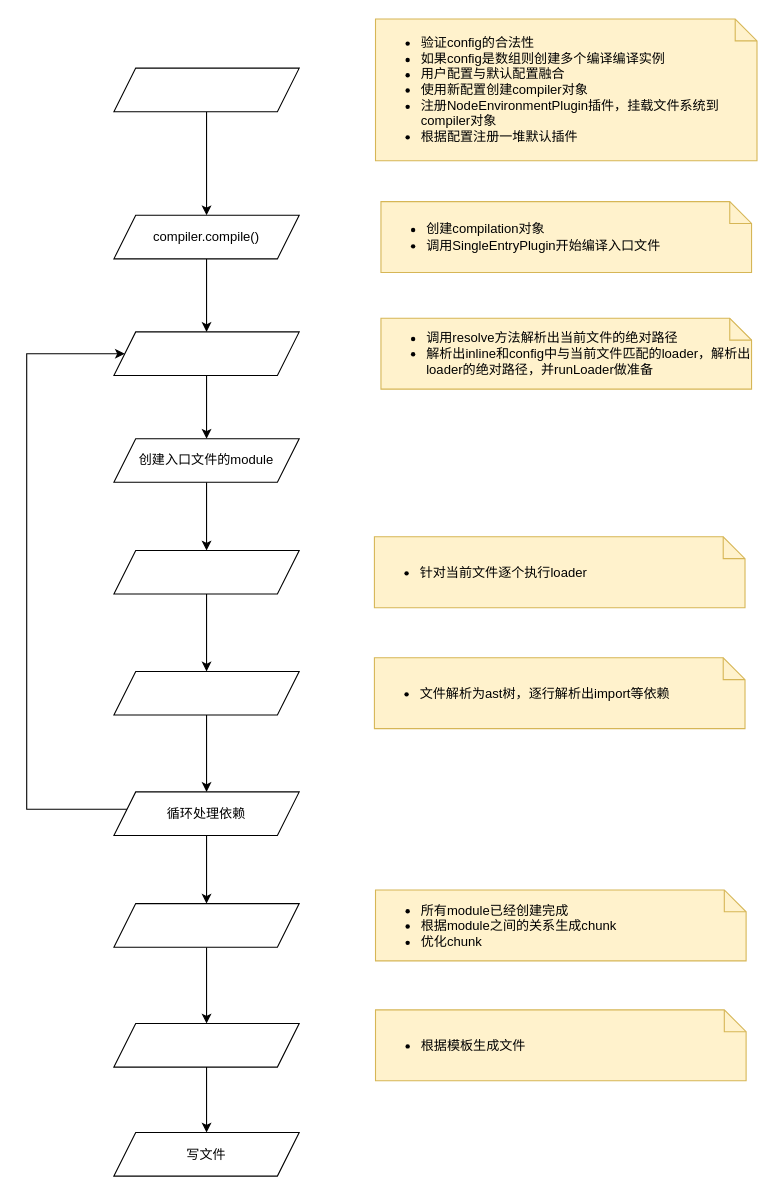
Some shapes in this 776 by 1196 pixel diagram are drawn without their labels. The centre of each missing label's shape, as x and y in pixels:
"parse" goes at (206,692).
"resolve" goes at (206,353).
"runLoaders" goes at (206,571).
"生成chunk" goes at (206,925).
"生成文件" goes at (206,1044).
"编译前的准备" goes at (206,89).
